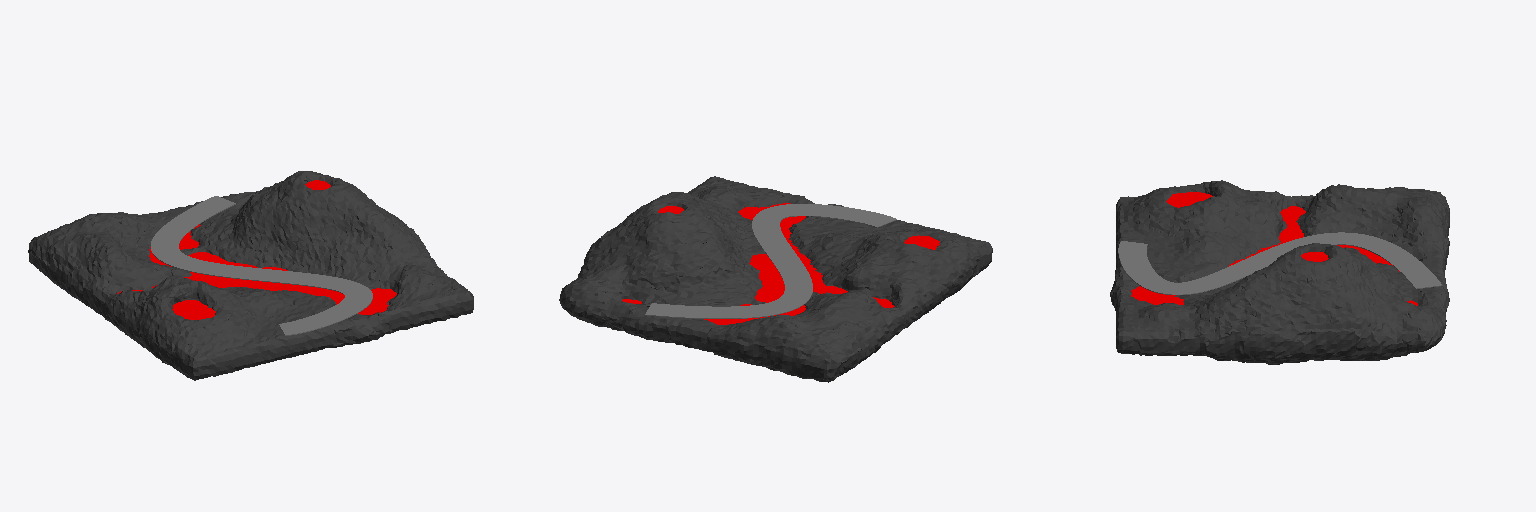
File: BridgeofDoom.obj
The picture shows the model from 3 angles: view 1: azimuth 30°, elevation 25°; view 2: azimuth 150°, elevation 25°; view 3: azimuth 270°, elevation 25°; orthographic projection.
Visible parts, largest first — view 1: Terrain18, Terrain21, Terrain25, Terrain1, Path1_3, Terrain12, Terrain7, Part3, Terrain5, Terrain3, Terrain22, Terrain23 (+1 smaller); view 2: Terrain1, Terrain21, Terrain25, Path1_3, Terrain18, Part3, Terrain17, Terrain16, Terrain5, Terrain15, Terrain3, Terrain22 (+1 smaller); view 3: Terrain21, Terrain1, Terrain25, Terrain18, Path1_3, Terrain9, Terrain13, Terrain6, Terrain10, Part3, Terrain20.
Boxes of the visible parts, x1,y1,x2,y2 form: Terrain18: [275, 194, 472, 324]; Terrain21: [110, 275, 331, 361]; Terrain25: [34, 209, 239, 298]; Terrain1: [173, 171, 384, 267]; Path1_3: [151, 196, 372, 334]; Terrain12: [193, 329, 335, 379]; Terrain7: [333, 294, 473, 347]; Part3: [117, 224, 396, 314]; Terrain5: [28, 249, 109, 321]; Terrain3: [108, 303, 193, 378]; Terrain22: [29, 237, 111, 301]; Terrain23: [113, 301, 174, 350]; Terrain1: [563, 194, 758, 327]; Terrain21: [800, 219, 990, 302]; Terrain25: [690, 278, 910, 354]; Path1_3: [645, 204, 896, 317]; Terrain18: [641, 176, 843, 263]; Part3: [622, 203, 894, 324]; Terrain17: [688, 328, 828, 382]; Terrain16: [565, 301, 689, 347]; Terrain5: [829, 303, 914, 381]; Terrain15: [708, 330, 829, 363]; Terrain3: [913, 246, 992, 321]; Terrain22: [830, 300, 912, 363]; Terrain21: [1120, 180, 1282, 267]; Terrain1: [1280, 243, 1443, 336]; Terrain25: [1280, 184, 1442, 268]; Terrain18: [1118, 256, 1281, 337]; Path1_3: [1118, 232, 1441, 294]; Terrain9: [1118, 336, 1280, 364]; Terrain13: [1280, 336, 1425, 363]; Terrain6: [1135, 313, 1281, 341]; Terrain10: [1279, 317, 1376, 342]; Part3: [1131, 206, 1417, 305]; Terrain20: [1286, 269, 1440, 362].
Size of the model in its own units: 276 by 79.53 by 269.